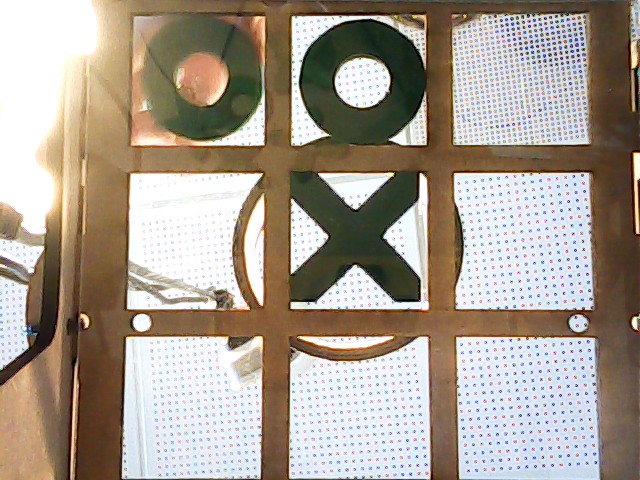O: (290, 22, 430, 144), (139, 16, 265, 145)
X: (290, 171, 424, 306)
